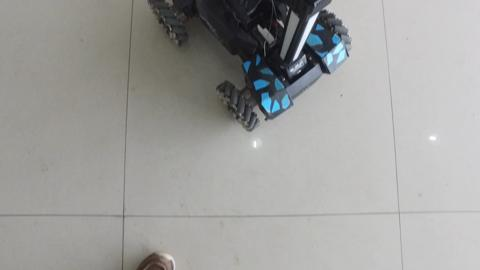chariot: (137, 7, 374, 134)
